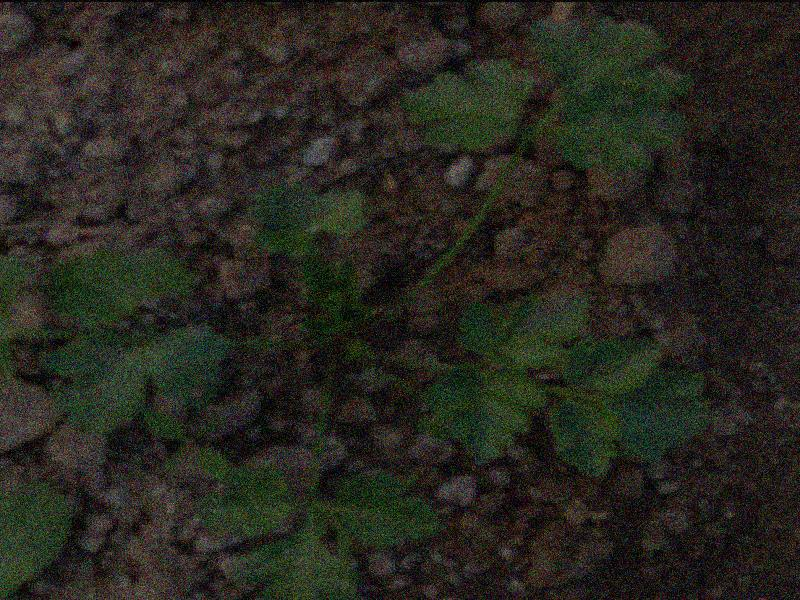radish: (0, 0, 782, 536)
